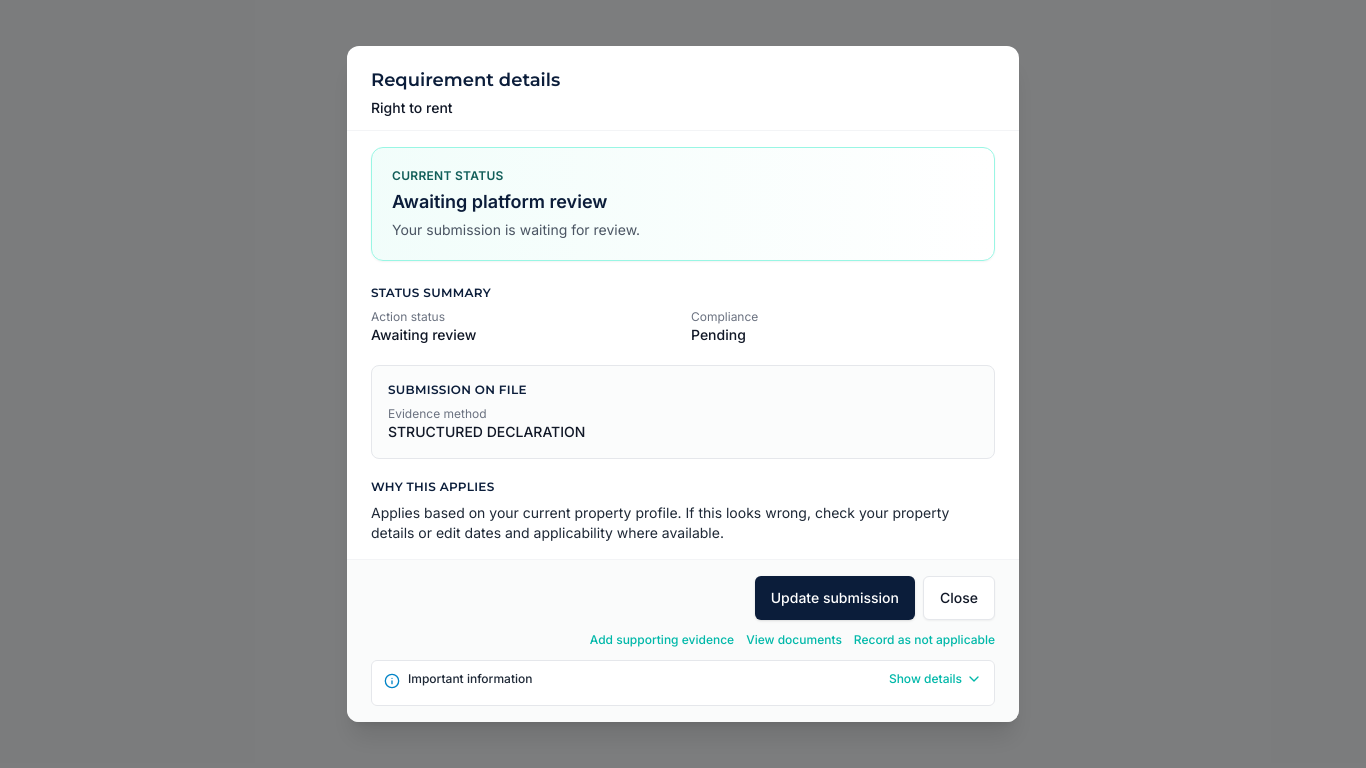
Scenario: RequirementIntelligenceModal › toggles NA governance disclosure and keeps full compliance copy available
Click the button with test id "na-governed-disclosure-trigger".
click(470, 678)  # box [372, 661, 994, 705]
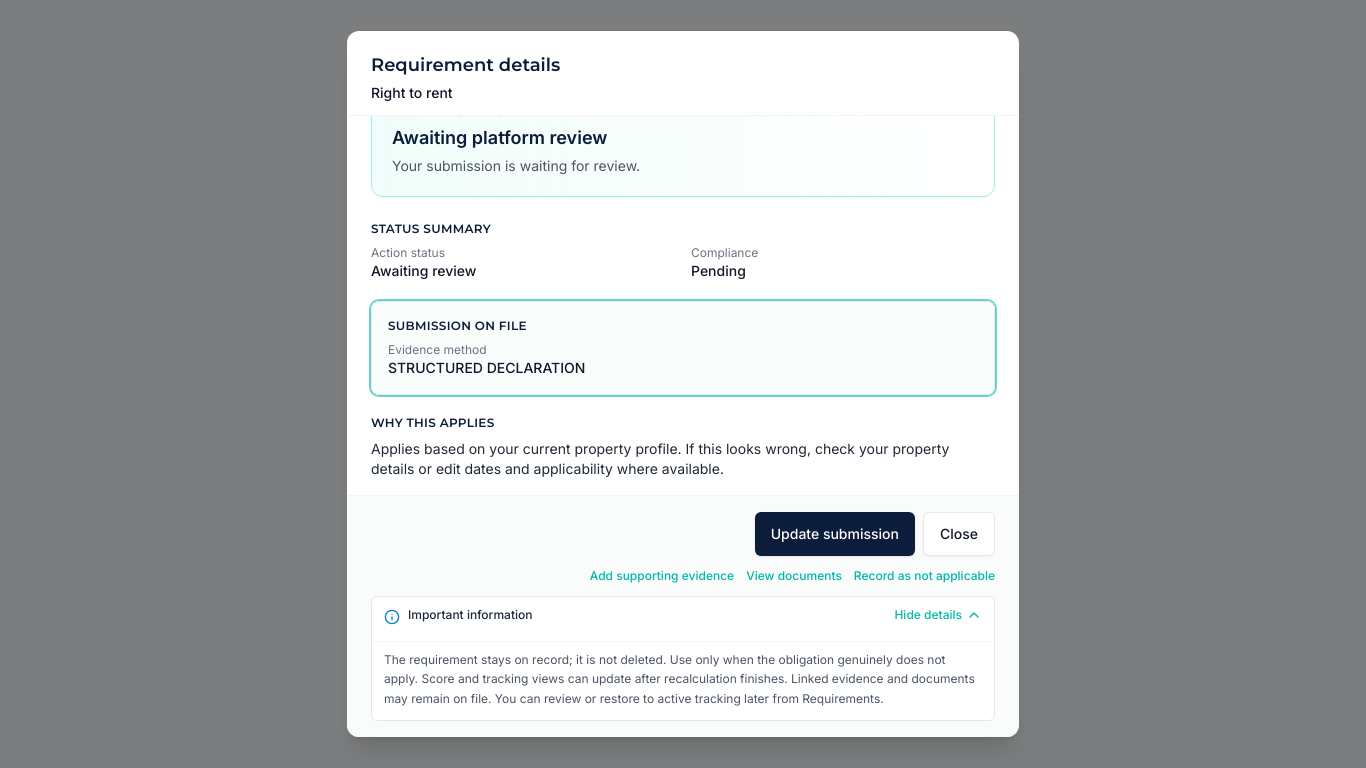
Now the text with test id "governed-not-applicable-compact-copy" is shown, box [384, 650, 982, 708]
Now the text with test id "governed-not-applicable-compact-copy" shows "The requirement stays on record", box [384, 652, 975, 706]
